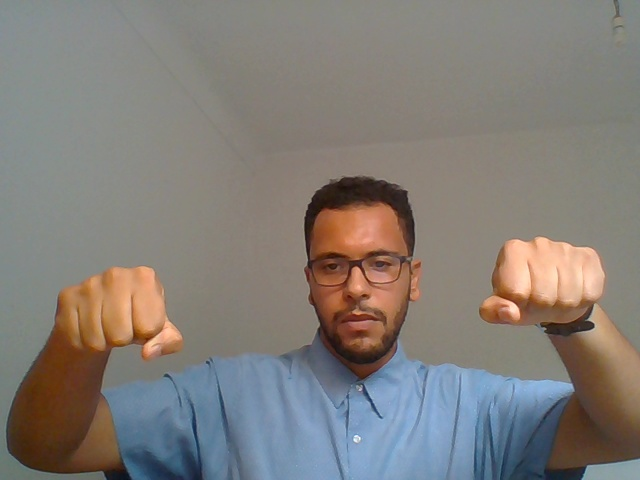yes: (460, 195, 640, 440), (24, 214, 193, 425)
